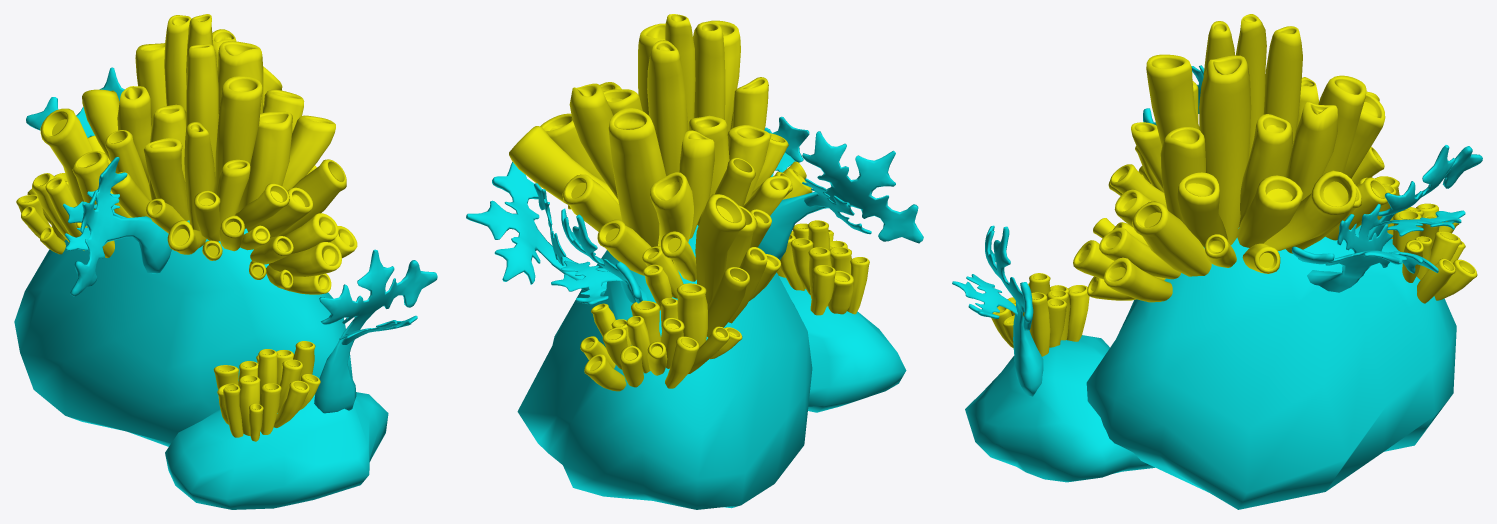
File: SM_Coral_Tubes.fbx
The picture shows the model from 3 angles, left to right: view 1: azimuth 30°, elevation 25°; view 2: azimuth 150°, elevation 25°; view 3: azimuth 270°, elevation 25°; orthographic projection. The views are drawn at different scales.
Parts seen in each view (by area): view 1: SM_Coral_Tubes; view 2: SM_Coral_Tubes; view 3: SM_Coral_Tubes.
Part boxes in pixels (box(x1,y1,x2,y2)): SM_Coral_Tubes: box(14, 14, 437, 509); SM_Coral_Tubes: box(466, 14, 923, 509); SM_Coral_Tubes: box(952, 14, 1482, 509).
Bounding box in the file's own units: 497 × 610 × 673.
